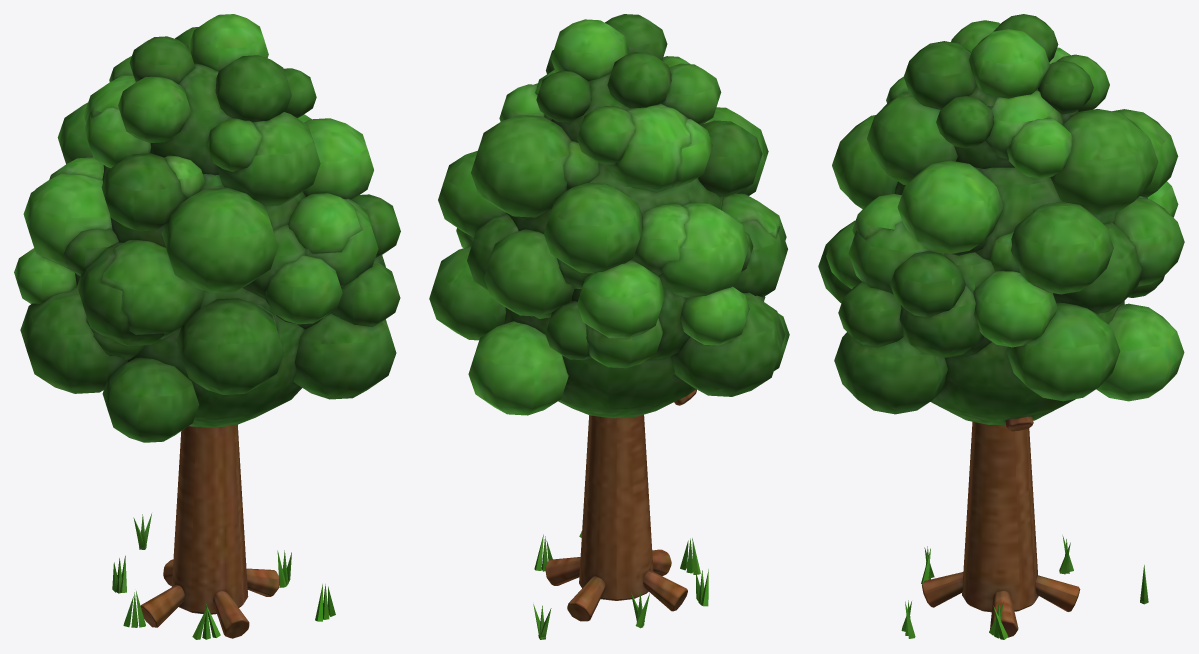
File: rowan_tree.glb
3 renders of one model, left to right at view 1: azimuth 30°, elevation 25°; view 2: azimuth 150°, elevation 25°; view 3: azimuth 270°, elevation 25°, orthographic. The views are drawn at different scales.
Visible parts, largest first — view 1: crown, rowan_tree; view 2: crown, rowan_tree; view 3: crown, rowan_tree.
Boxes of the visible parts, bbox=[...] form: crown: bbox=[14, 14, 400, 442]; rowan_tree: bbox=[112, 424, 335, 639]; crown: bbox=[429, 14, 789, 418]; rowan_tree: bbox=[533, 389, 708, 639]; crown: bbox=[818, 14, 1184, 424]; rowan_tree: bbox=[901, 416, 1148, 639].
Size of the model in its own units: 0.8855 by 1.5 by 0.8488.
Materials: 1 (1 with a texture image).
